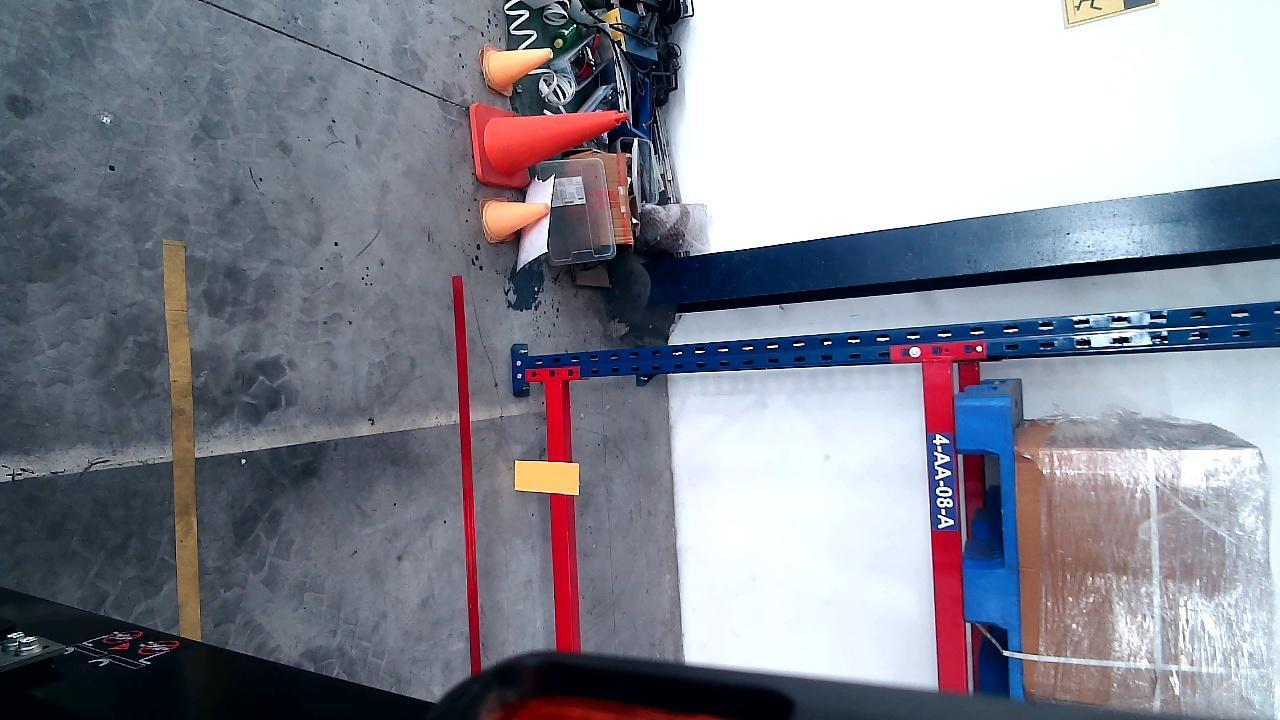h_rack: (924, 359, 969, 692), (548, 385, 571, 645)
orange_strip: (515, 461, 579, 495)
red_line: (455, 277, 480, 678)
small_pallet: (957, 394, 1025, 698)
yellow_line: (169, 234, 200, 640)
